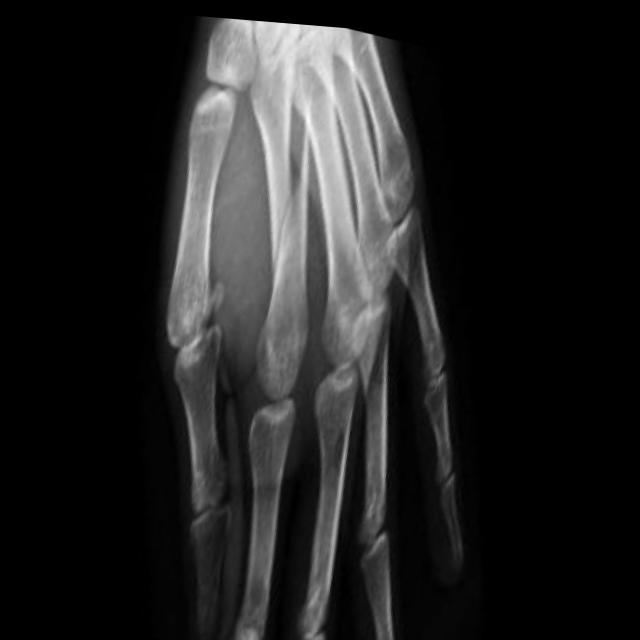fracture: (250, 166, 308, 295)
